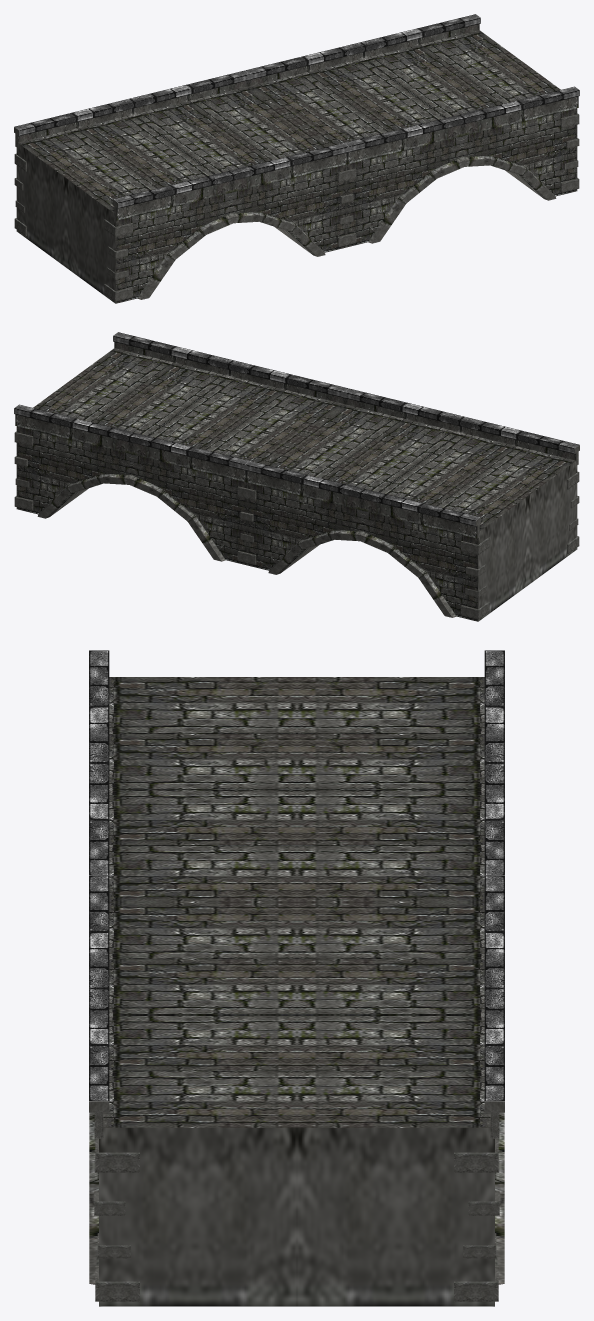
Rendered from stone_lod_rock_long.FBX.
3 views of the same model, one above another, from view 1: azimuth 30°, elevation 25°; view 2: azimuth 150°, elevation 25°; view 3: azimuth 270°, elevation 25° (orthographic). The views are drawn at different scales.
Parts seen in each view (by area): view 1: stone_lod_rock_long; view 2: stone_lod_rock_long; view 3: stone_lod_rock_long.
Boxes of the visible parts, x1,y1,x2,y2 form: stone_lod_rock_long: [14, 14, 579, 303]; stone_lod_rock_long: [14, 332, 579, 621]; stone_lod_rock_long: [89, 650, 504, 1306].
Size of the model in its own units: 1462 by 309 by 568.
